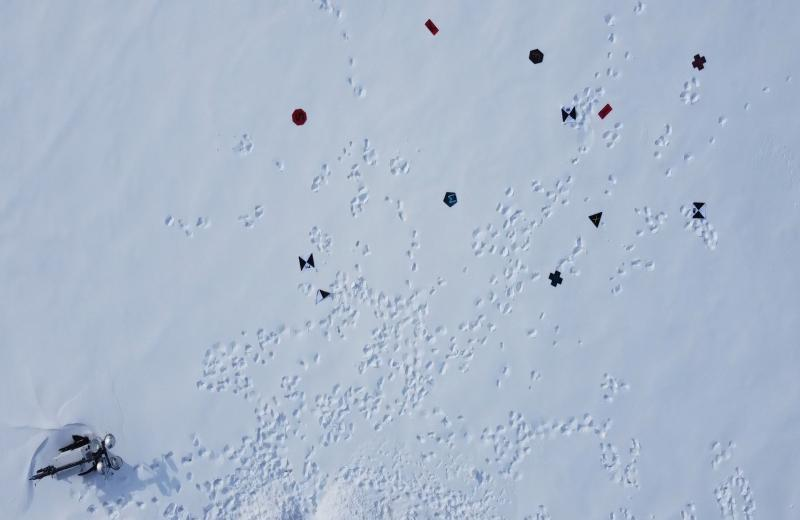Cross: (546, 269, 563, 287), (692, 54, 708, 72)
Hexagon: (528, 48, 544, 64)
Octagon: (292, 107, 308, 125)
Pentagon: (441, 190, 459, 210)
Rectangle: (424, 17, 439, 36), (598, 104, 614, 120)
Triangle: (587, 210, 604, 228)
